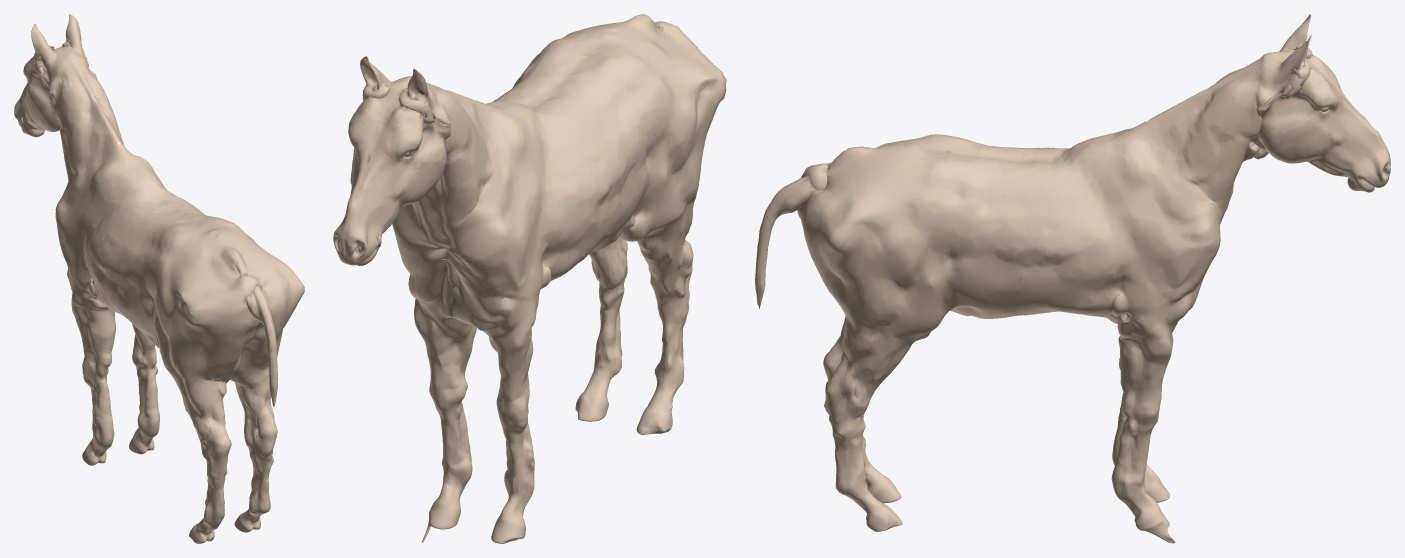
The model's file is integumentary.glb.
The picture shows the model from 3 angles, left to right: view 1: azimuth 30°, elevation 25°; view 2: azimuth 150°, elevation 25°; view 3: azimuth 270°, elevation 25°; orthographic projection. The views are drawn at different scales.
Parts seen in each view (by area): view 1: horse_integumentary_skin; view 2: horse_integumentary_skin, horse_integumentary_hooves_thoracic_R, horse_integumentary_hooves_pelvic_R, horse_integumentary_hooves_pelvic_L, horse_integumentary_hooves_thoracic_L; view 3: horse_integumentary_skin, horse_integumentary_hooves_thoracic_R.
Part boxes in pixels (x1,y1,x2,y2): horse_integumentary_skin: (14,14,304,531); horse_integumentary_skin: (333,14,726,523); horse_integumentary_hooves_thoracic_R: (421,499,460,542); horse_integumentary_hooves_pelvic_R: (575,393,608,421); horse_integumentary_hooves_pelvic_L: (636,408,672,434); horse_integumentary_hooves_thoracic_L: (491,512,525,543); horse_integumentary_skin: (755,14,1390,513); horse_integumentary_hooves_thoracic_R: (1129,508,1175,543).
Bounding box in the file's own units: 0.6904 × 2.24 × 2.57.
